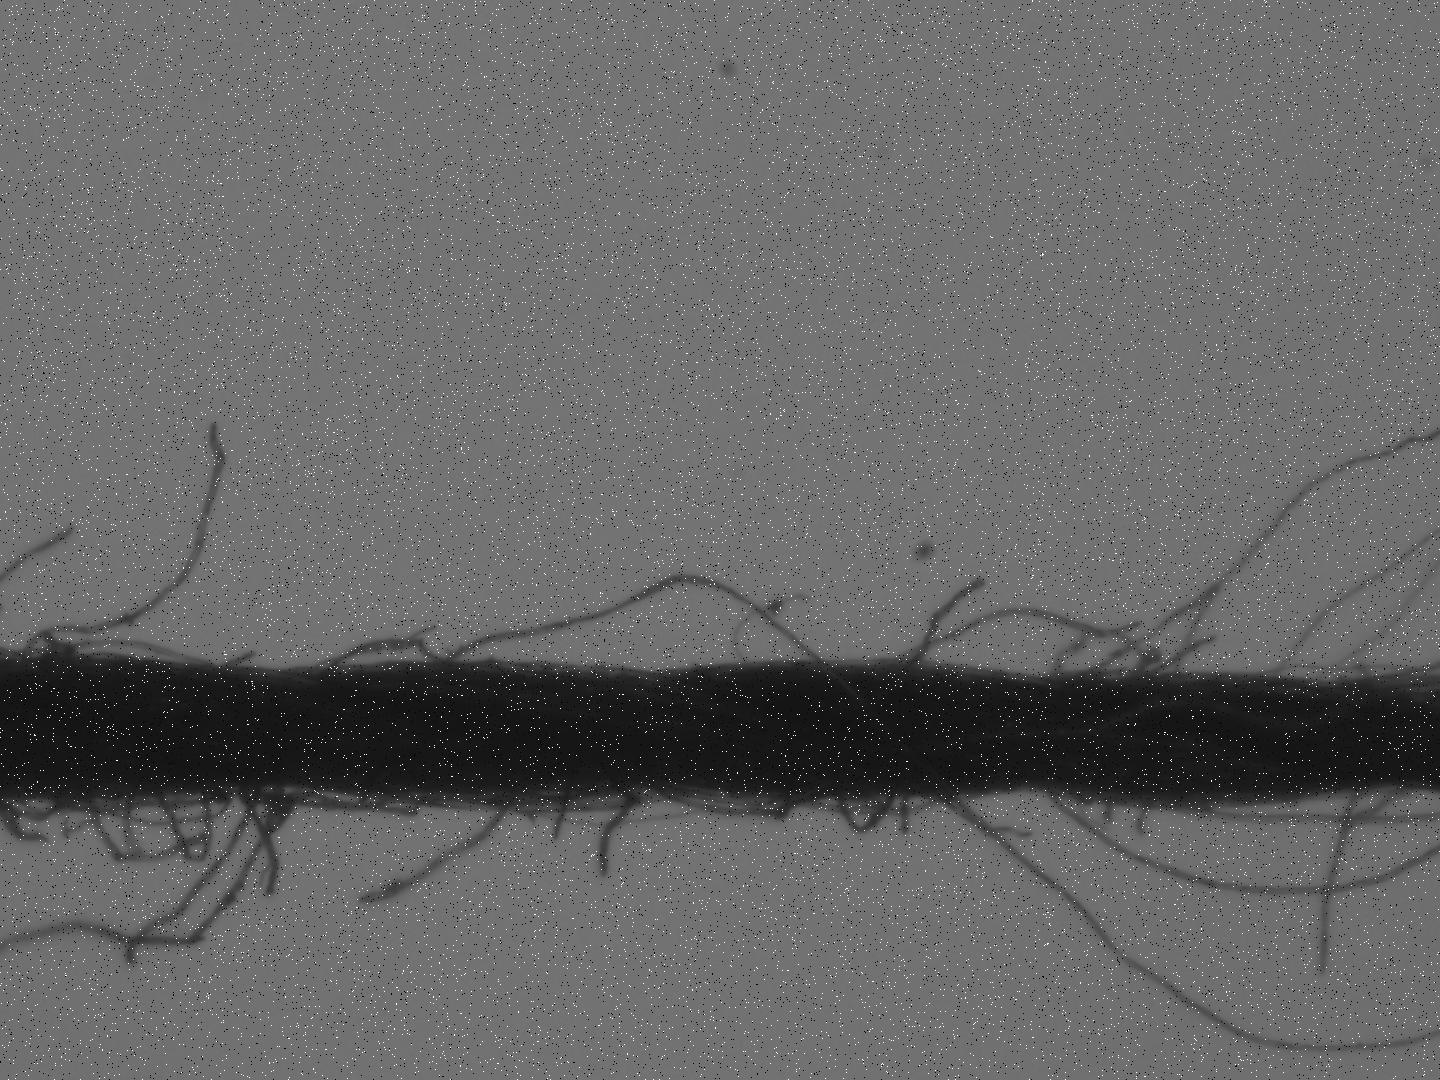loop_fiber: (904, 602, 1155, 685), (84, 790, 232, 862), (650, 784, 827, 820), (324, 638, 441, 681), (39, 638, 209, 667), (156, 792, 215, 863), (279, 782, 381, 815), (831, 788, 898, 837)
protruding_fiber: (17, 414, 231, 659), (365, 792, 516, 905), (899, 575, 992, 669), (1319, 795, 1352, 973), (599, 786, 633, 870), (549, 786, 570, 846)
